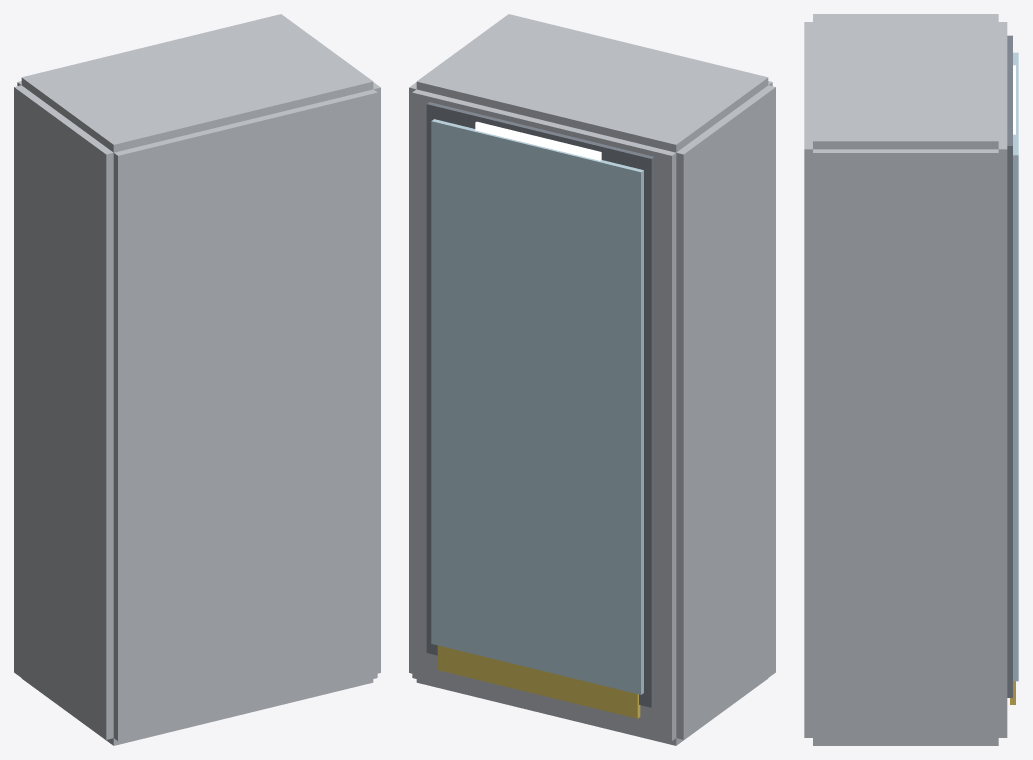
The model's file is suit_locker.fbx.
3 views of the same model, side by side, from view 1: azimuth 30°, elevation 25°; view 2: azimuth 150°, elevation 25°; view 3: azimuth 270°, elevation 25° (orthographic).
Parts seen in each view (by area): view 1: suit_locker; view 2: suit_locker; view 3: suit_locker.
Boxes of the visible parts, box(x1,y1,x2,y2) form: suit_locker: box(14, 14, 380, 745); suit_locker: box(409, 14, 775, 745); suit_locker: box(804, 14, 1018, 745).
Bounding box in the file's own units: 1.1 × 2.3 × 0.74.
